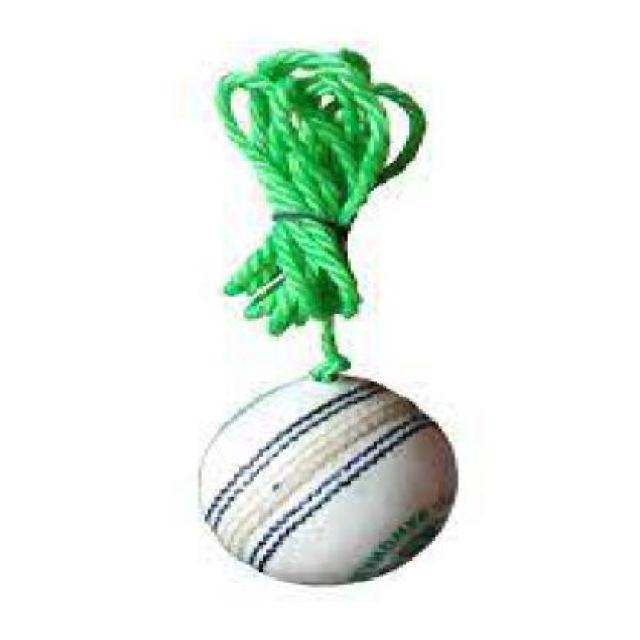ball: (179, 351, 476, 613)
